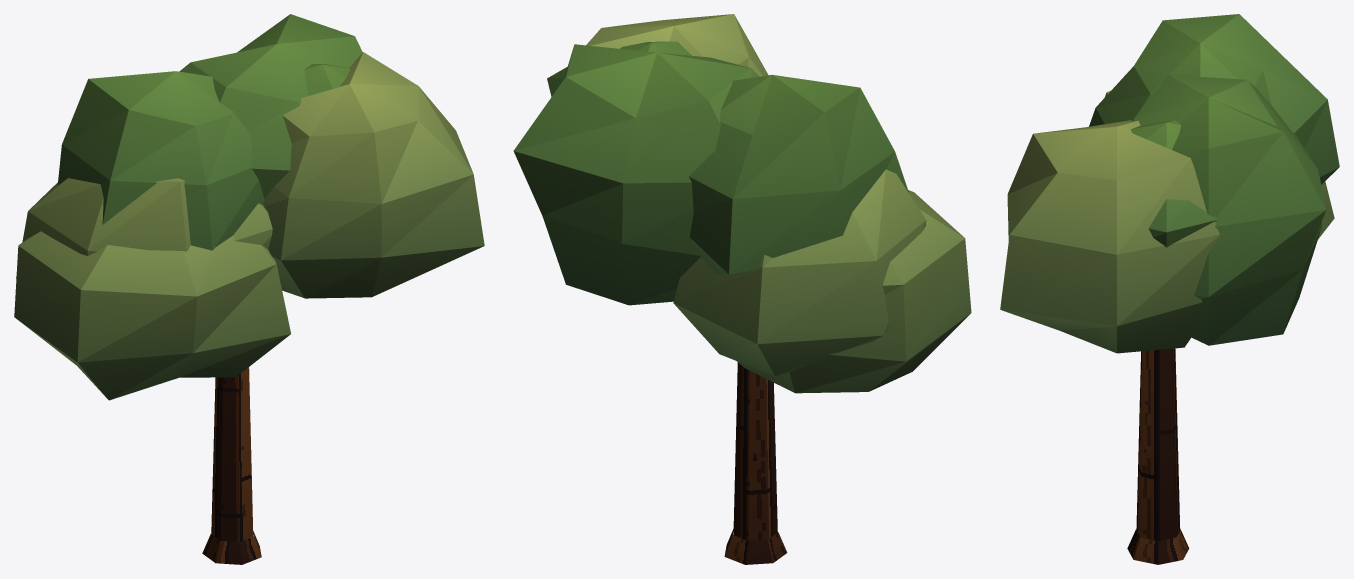
File: oak_1_lowpoly.glb
The picture shows the model from 3 angles, left to right: view 1: azimuth 30°, elevation 25°; view 2: azimuth 150°, elevation 25°; view 3: azimuth 270°, elevation 25°; orthographic projection. The views are drawn at different scales.
Parts seen in each view (by area): view 1: oak_1_lowpoly; view 2: oak_1_lowpoly; view 3: oak_1_lowpoly.
Part boxes in pixels (left/top/right/bottom): oak_1_lowpoly: left=14, top=14, right=484, bottom=564; oak_1_lowpoly: left=513, top=14, right=971, bottom=564; oak_1_lowpoly: left=1000, top=14, right=1339, bottom=564.
Size of the model in its own units: 5.31 by 6.12 by 3.85.
Materials: 2 (1 with a texture image).
